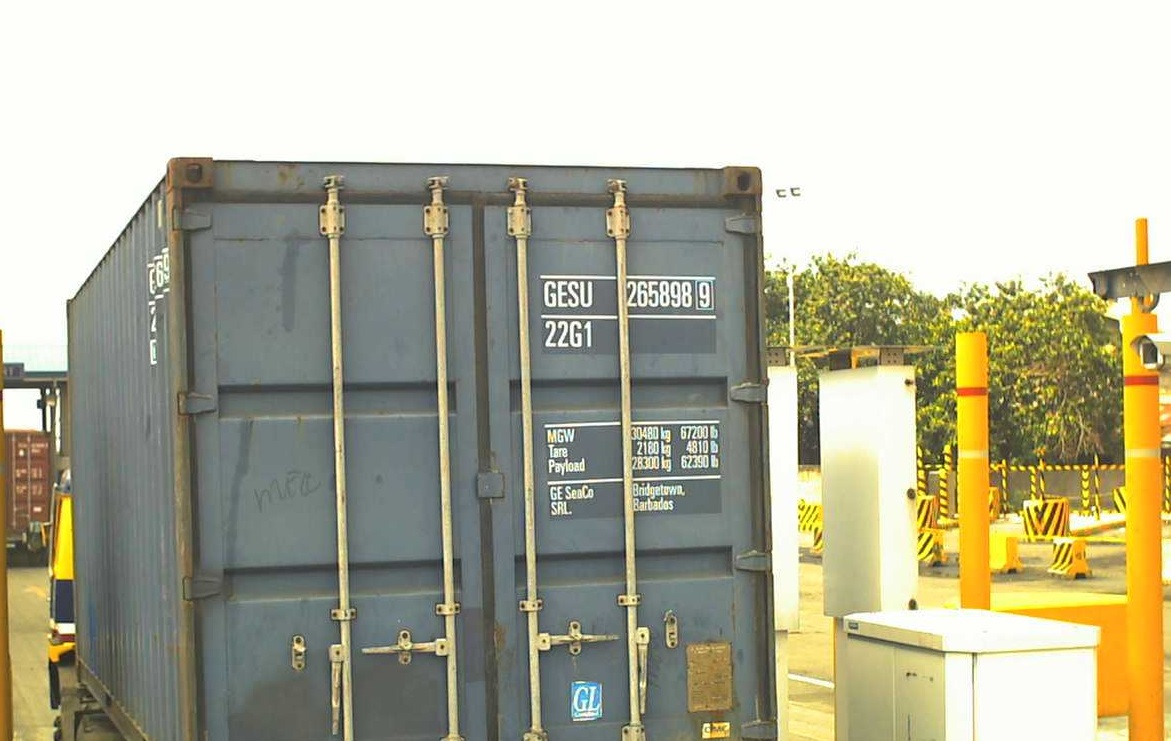container_door: (166, 152, 777, 741)
